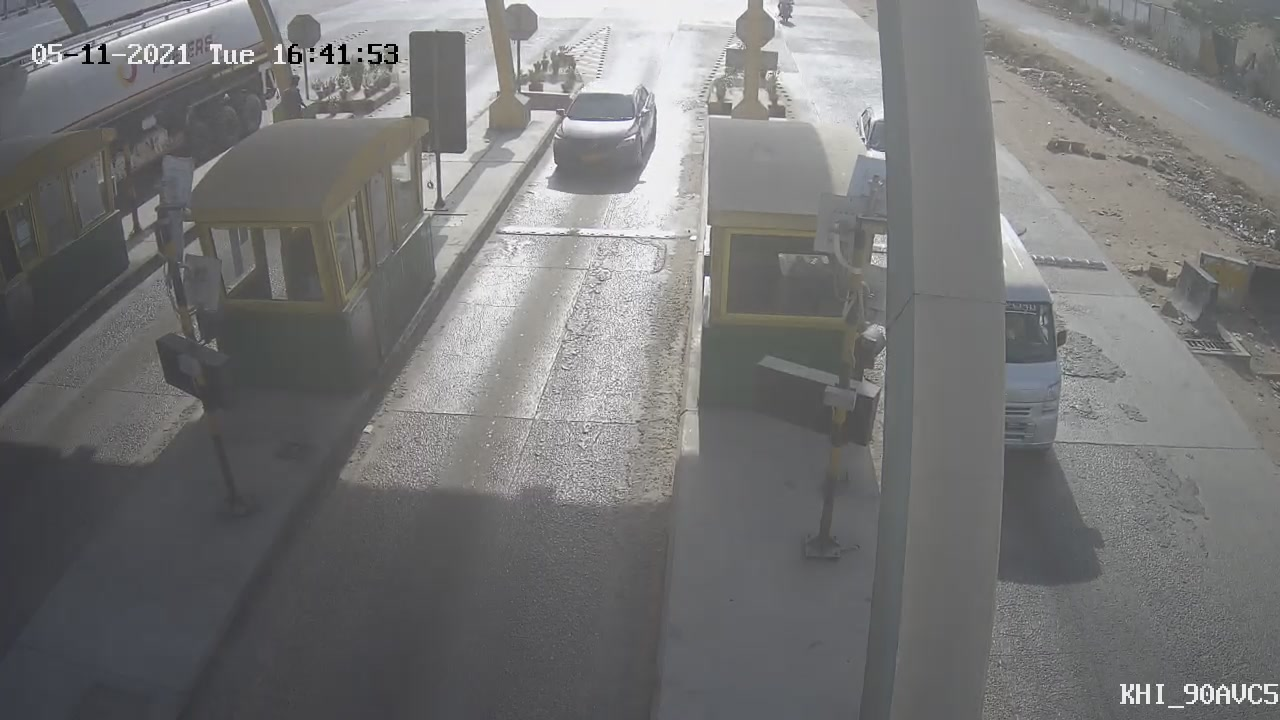F1: (539, 68, 672, 205)
